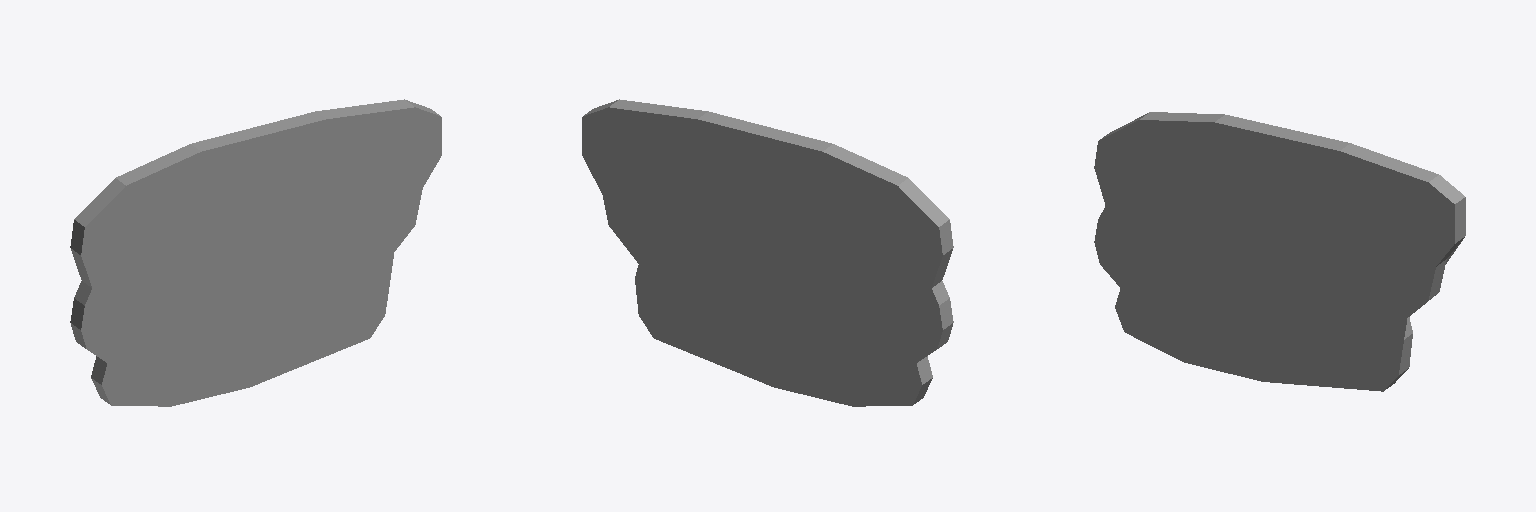
Rendered from ruinable_small.obj.
The picture shows the model from 3 angles: view 1: azimuth 30°, elevation 25°; view 2: azimuth 150°, elevation 25°; view 3: azimuth 330°, elevation 25°; orthographic projection.
Visible parts, largest first — view 1: MeshBody1; view 2: MeshBody1; view 3: MeshBody1.
Boxes of the visible parts, <box> form: MeshBody1: <box>70,99,441,406</box>; MeshBody1: <box>582,99,953,406</box>; MeshBody1: <box>1094,112,1465,391</box>.
Size of the model in its own units: 0.96 by 0.6348 by 0.05.